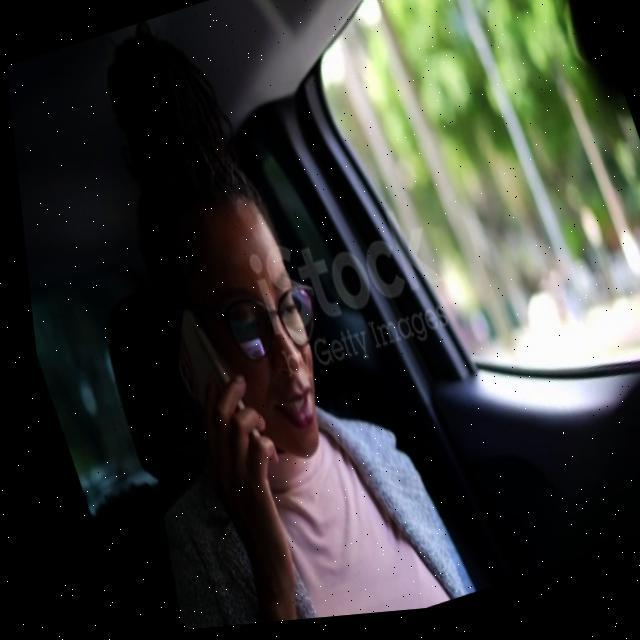PhoneCall: (151, 300, 259, 480)
